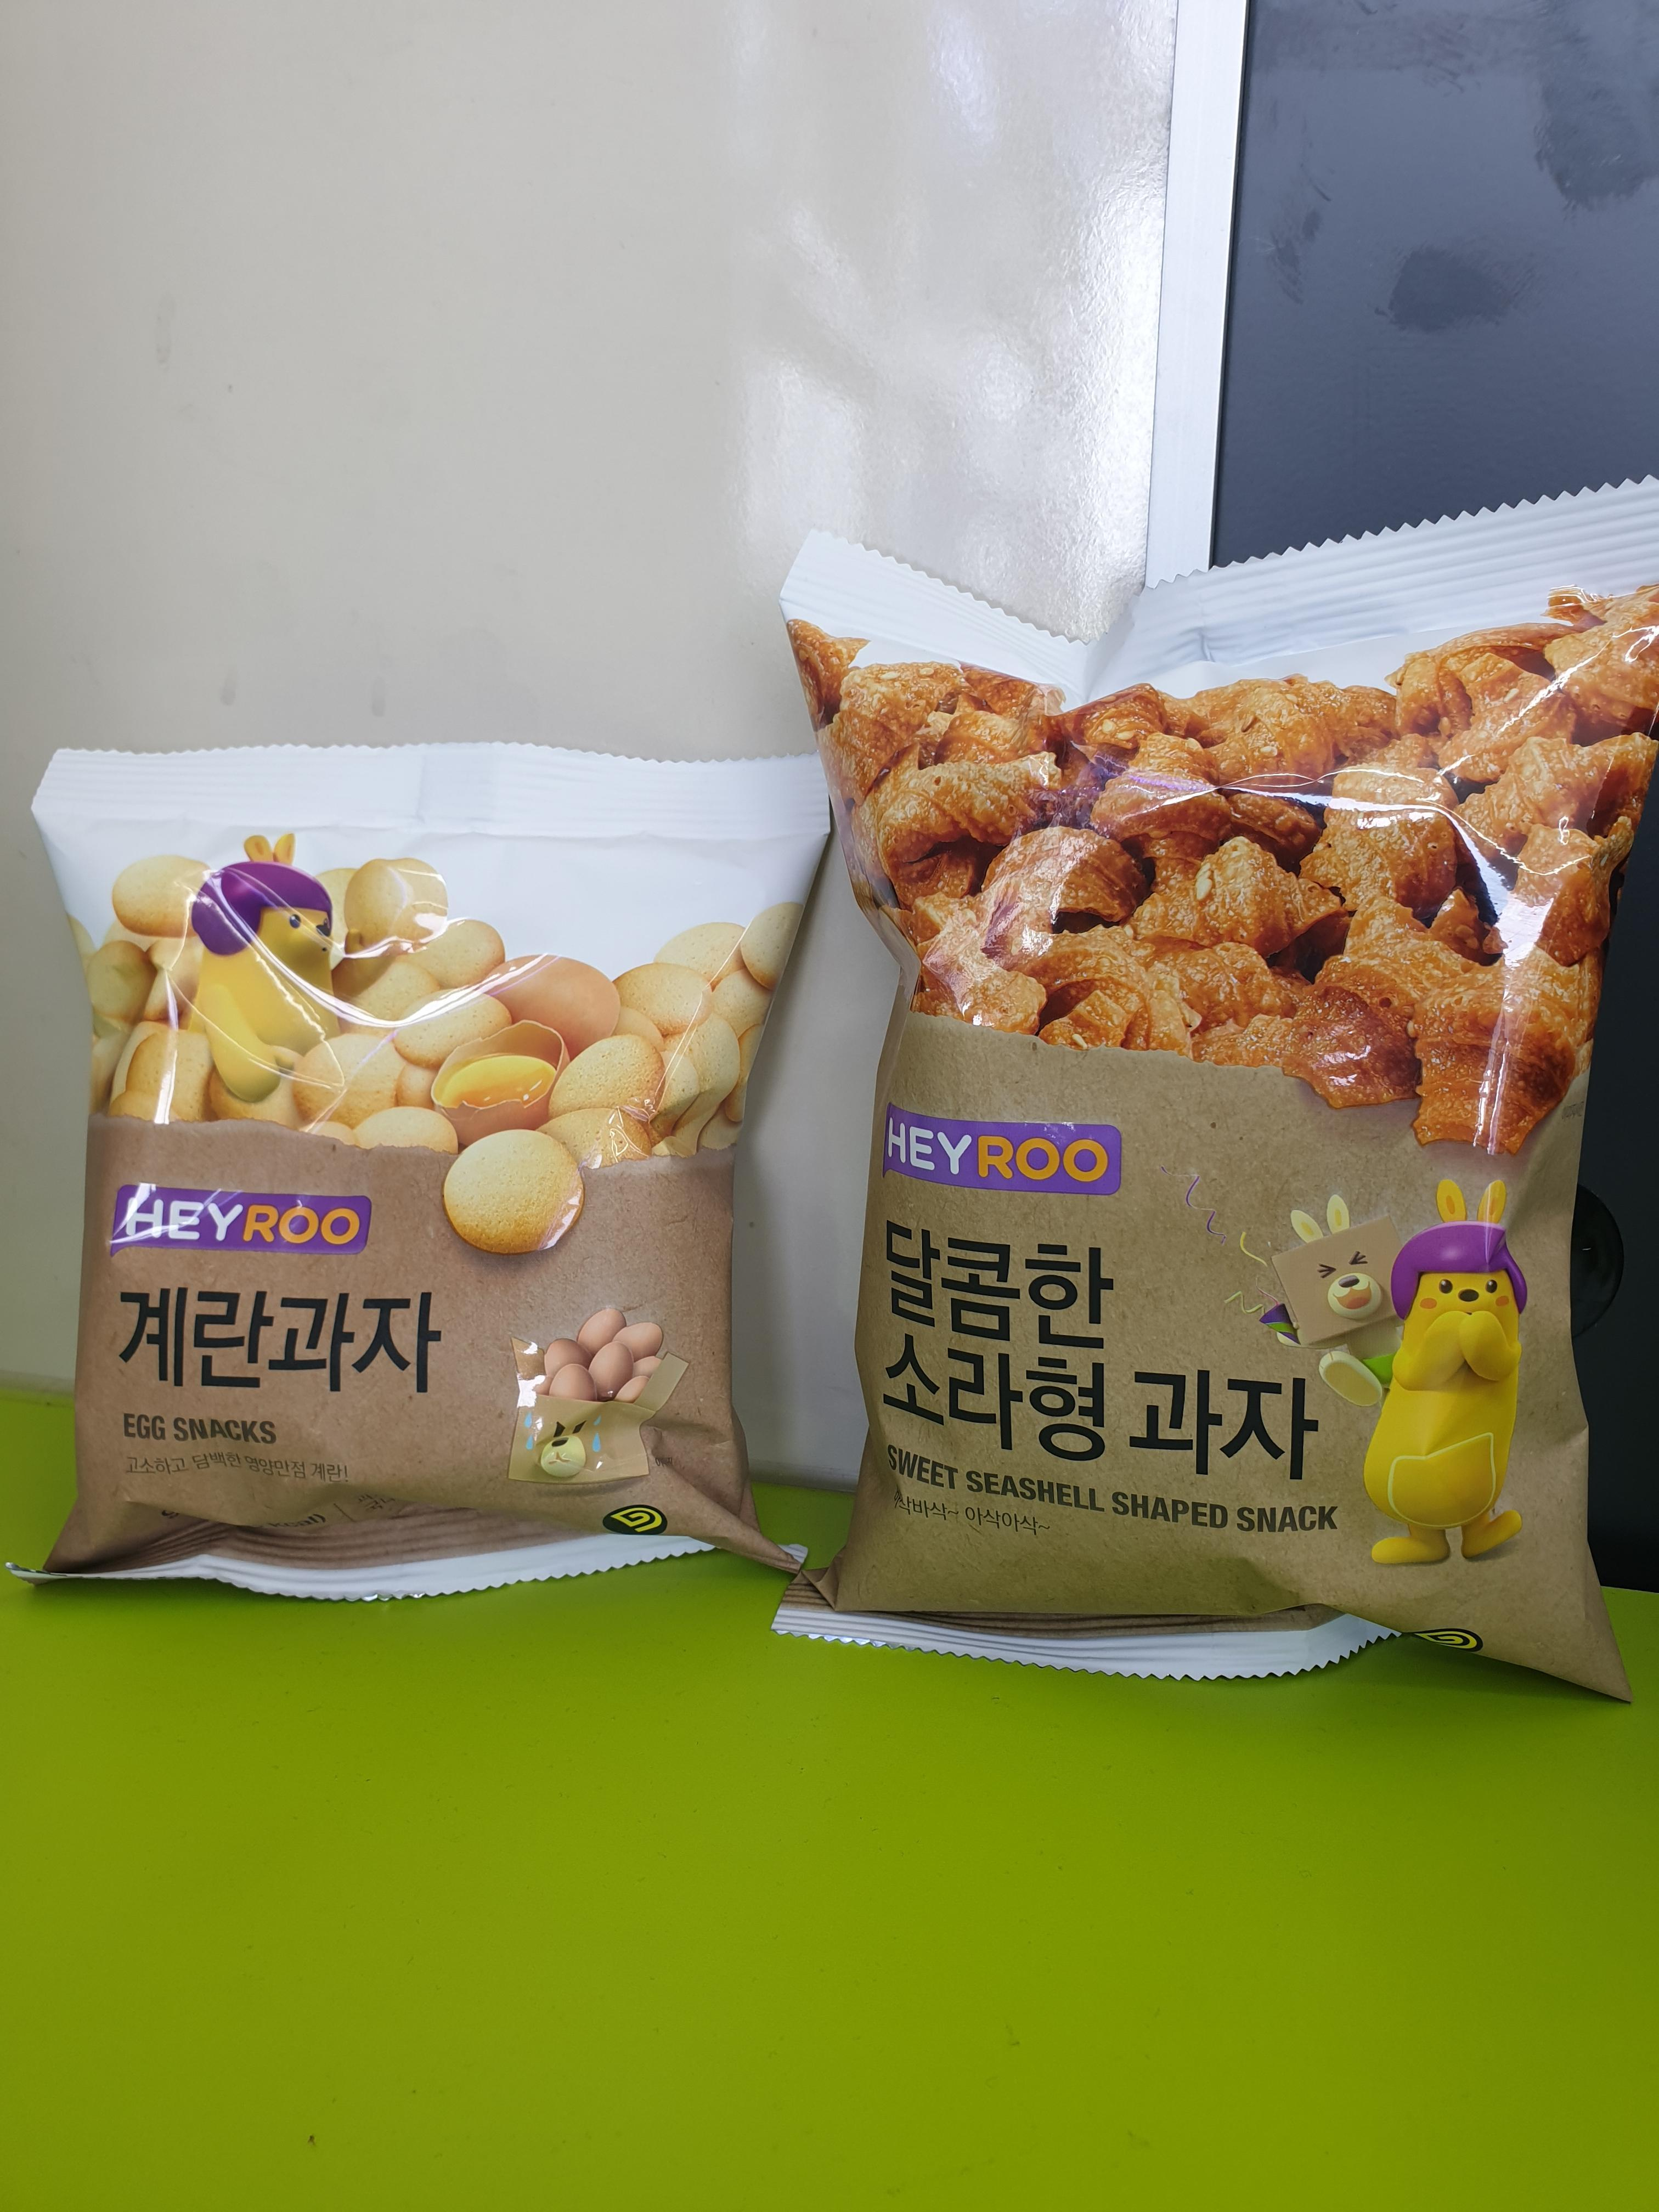snack: (782, 469, 1659, 1712), (7, 738, 836, 1604)
